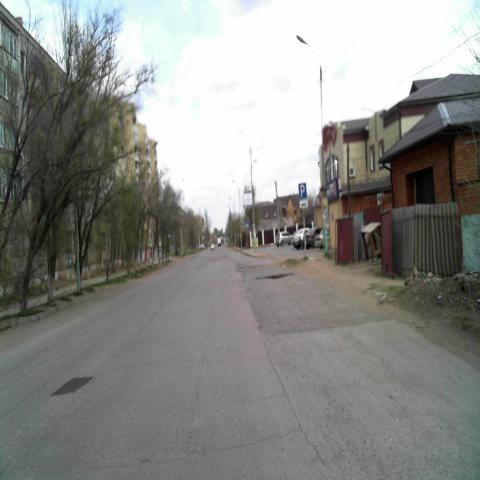6_4: (299, 182, 307, 198)
8_4_3: (299, 198, 307, 208)
